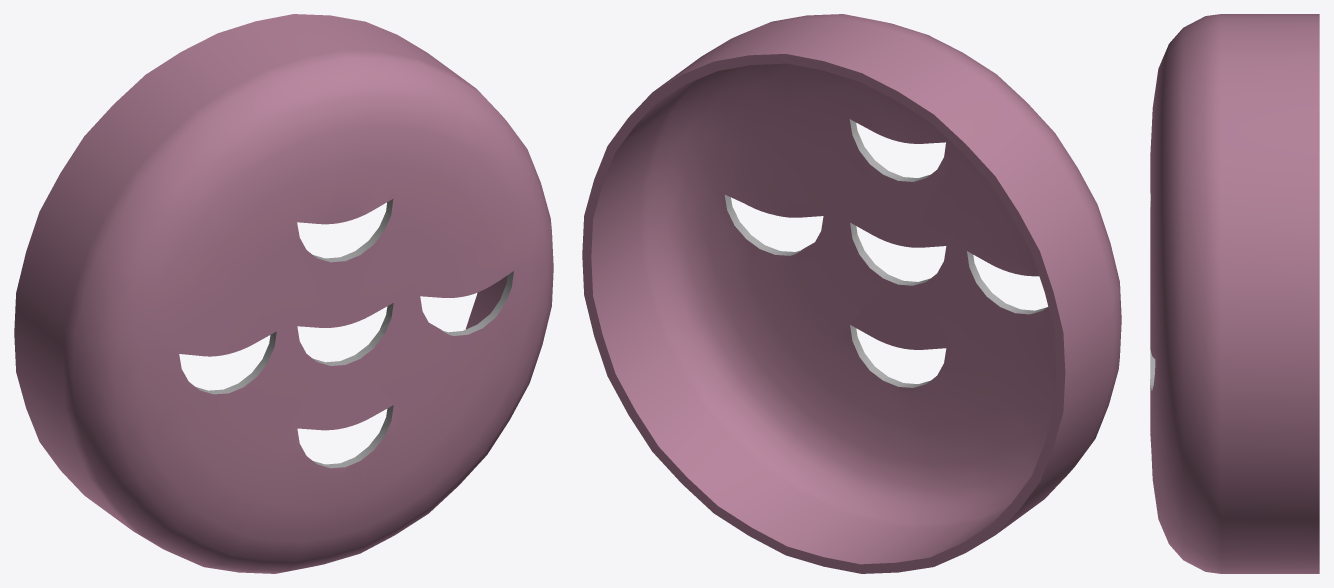
Rendered from ele_moon.fbx.
3 renders of one model, left to right at view 1: azimuth 30°, elevation 25°; view 2: azimuth 150°, elevation 25°; view 3: azimuth 270°, elevation 25°, orthographic.
Visible parts, largest first — view 1: polySurface49; view 2: polySurface49; view 3: polySurface49.
Part boxes in pixels (bbox=[...]): polySurface49: bbox=[14, 14, 553, 573]; polySurface49: bbox=[582, 14, 1121, 573]; polySurface49: bbox=[1150, 14, 1319, 573].
Size of the model in its own units: 60.28 by 60.28 by 18.31.
